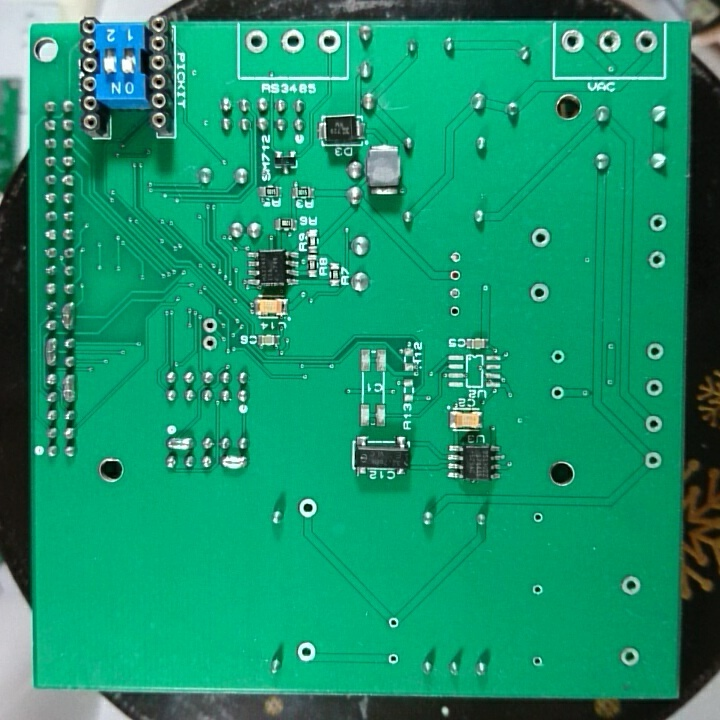F: (314, 27, 342, 58), (597, 25, 623, 58), (243, 28, 270, 57), (279, 27, 306, 56), (634, 28, 659, 57), (528, 224, 553, 252), (294, 639, 319, 666), (560, 29, 584, 56), (619, 571, 642, 599), (296, 495, 319, 522), (641, 449, 665, 474), (527, 280, 551, 305), (618, 643, 640, 669), (646, 211, 669, 235), (646, 246, 668, 271), (644, 339, 666, 364), (643, 375, 665, 400), (642, 412, 664, 435), (548, 382, 568, 404), (199, 333, 219, 354), (548, 348, 567, 368), (446, 247, 465, 266), (200, 315, 219, 334), (528, 652, 546, 671), (446, 284, 465, 302), (529, 580, 547, 598), (446, 303, 464, 321), (385, 614, 402, 633), (446, 266, 464, 283), (531, 509, 546, 529), (386, 649, 401, 669)
P: (58, 299, 79, 333), (59, 372, 79, 405), (42, 334, 60, 369), (219, 452, 248, 472), (165, 435, 196, 452)
